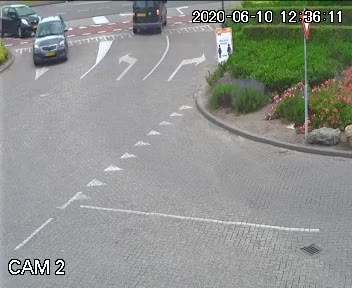car: (29, 13, 74, 67), (128, 0, 172, 37), (1, 2, 40, 38)
